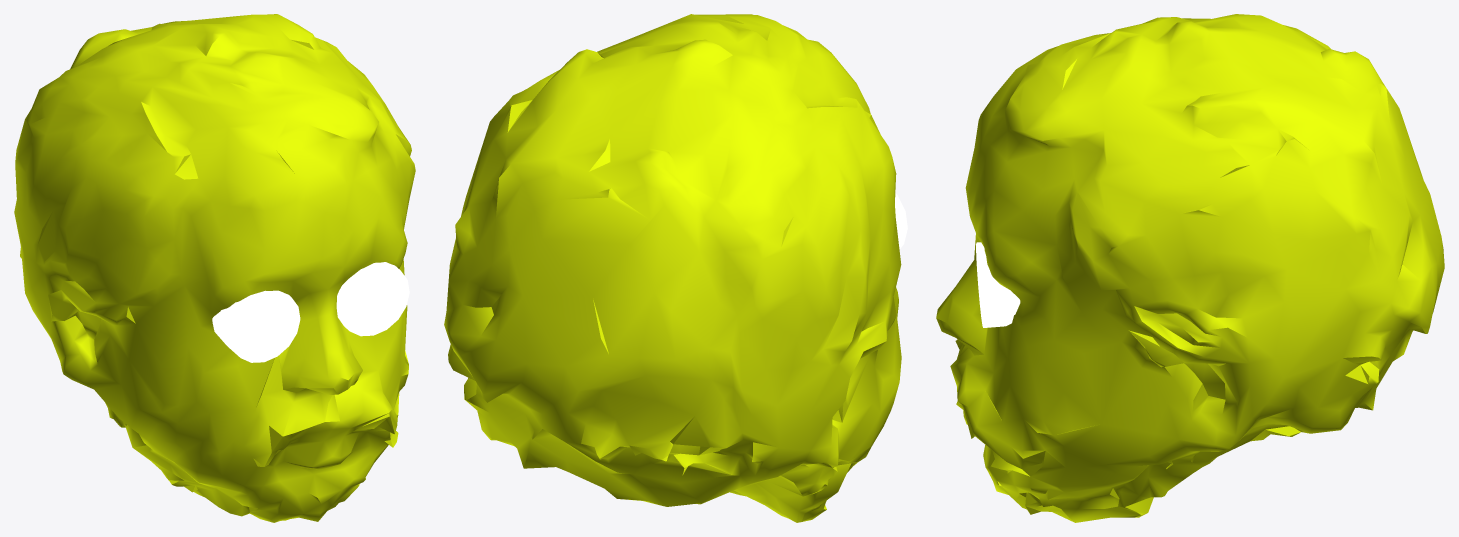
Rendered from portrait - nico - 3D - v2.glb.
3 renders of one model, left to right at view 1: azimuth 30°, elevation 25°; view 2: azimuth 150°, elevation 25°; view 3: azimuth 270°, elevation 25°, orthographic. The views are drawn at different scales.
Parts seen in each view (by area): view 1: mesh_node, Cylindrique.1; view 2: mesh_node; view 3: mesh_node, Cylindrique.1.
Part boxes in pixels (x1,y1,x2,y2): mesh_node: [14, 14, 415, 522]; Cylindrique.1: [212, 262, 409, 362]; mesh_node: [444, 14, 901, 522]; mesh_node: [936, 14, 1444, 522]; Cylindrique.1: [976, 242, 1020, 327].
Size of the model in its own units: 1.45 by 1.81 by 1.79.
